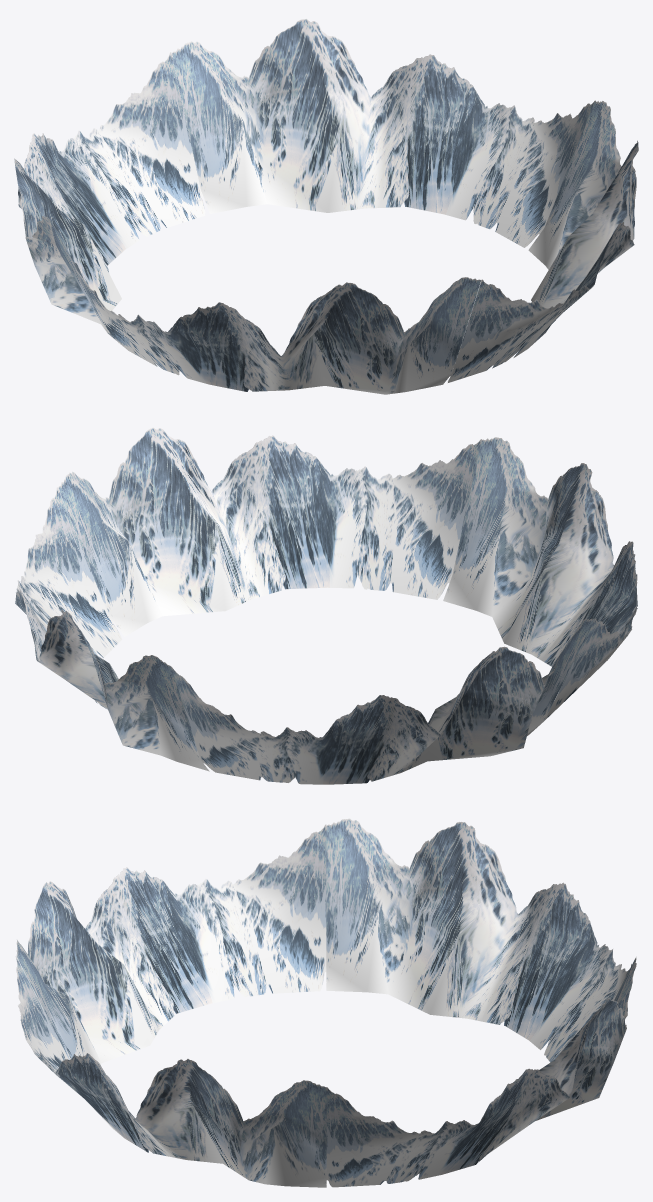
The model's file is bg_mountain.fbx.
3 renders of one model, top to bottom at view 1: azimuth 30°, elevation 25°; view 2: azimuth 150°, elevation 25°; view 3: azimuth 270°, elevation 25°, orthographic.
Parts seen in each view (by area): view 1: _BGmount; view 2: _BGmount; view 3: _BGmount.
Part boxes in pixels (left/top/right/bottom): _BGmount: left=14, top=19, right=638, bottom=394; _BGmount: left=15, top=427, right=637, bottom=784; _BGmount: left=15, top=818, right=636, bottom=1187.
Size of the model in its own units: 76.56 by 20.75 by 76.56.
Materials: 1 (1 with a texture image).
